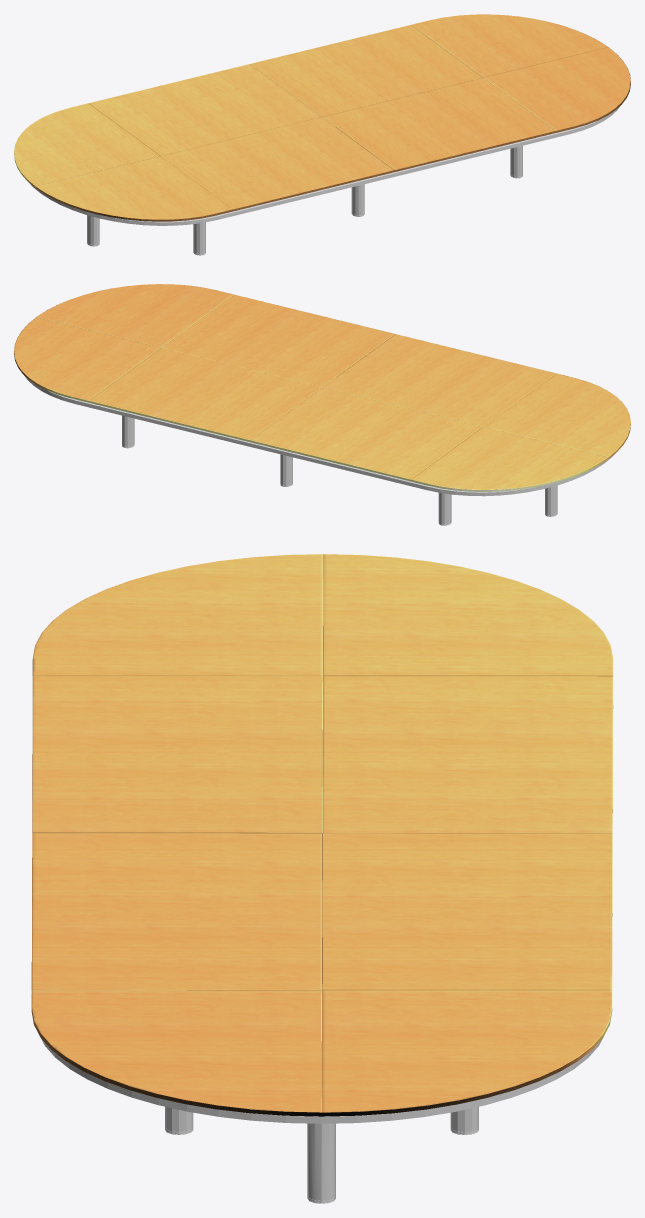
File: table2.FBX
3 renders of one model, top to bottom at view 1: azimuth 30°, elevation 25°; view 2: azimuth 150°, elevation 25°; view 3: azimuth 270°, elevation 25°, orthographic. The views are drawn at different scales.
Visible parts, largest first — view 1: table, zuodi, leg7, leg6, leg8, leg5; view 2: table, zuodi, leg4, leg3, leg2, leg5; view 3: table, zuodi, leg1.
Part boxes in pixels (x1,y1,x2,y2): table: (14,14,630,221); zuodi: (29,105,620,225); leg7: (351,184,364,215); leg6: (193,222,205,254); leg8: (510,145,522,176); leg5: (87,215,99,244); table: (14,284,630,491); zuodi: (24,375,615,496); leg4: (438,492,451,524); leg3: (280,454,292,485); leg2: (122,415,134,446); leg5: (545,485,557,515); table: (31,554,613,1116); zuodi: (41,1038,602,1123); leg1: (307,1123,335,1200).
Size of the model in its own units: 6351 by 754 by 2795.
Materials: 10 (1 with a texture image).
